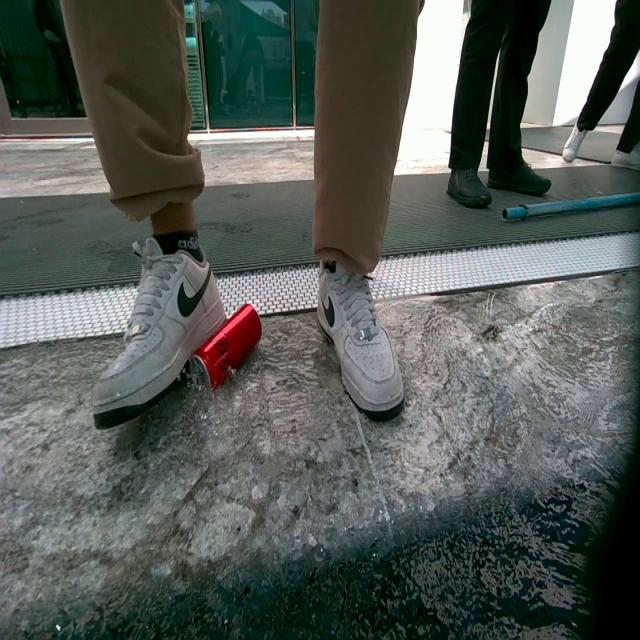Cans: (186, 306, 260, 394)
